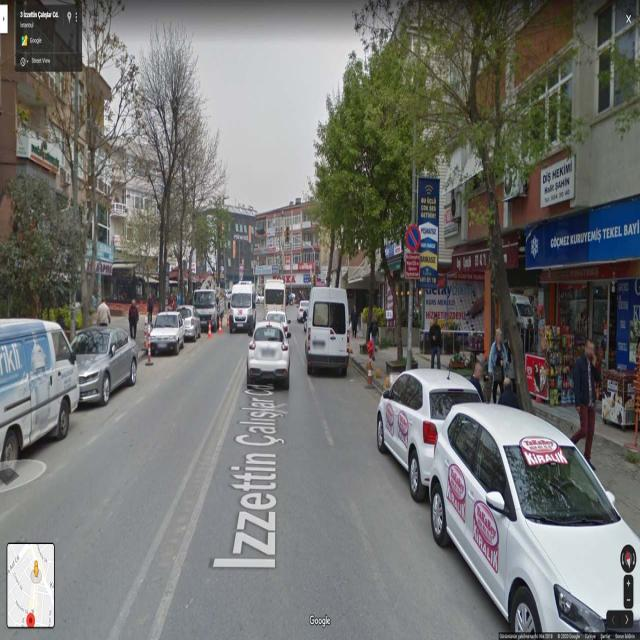parkyasak: (406, 223, 421, 253)
